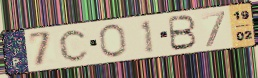1: (139, 18, 155, 55)
7: (27, 29, 56, 69), (201, 10, 227, 48)
B: (167, 14, 199, 52)
C: (58, 27, 91, 63)
O: (98, 23, 129, 59)
